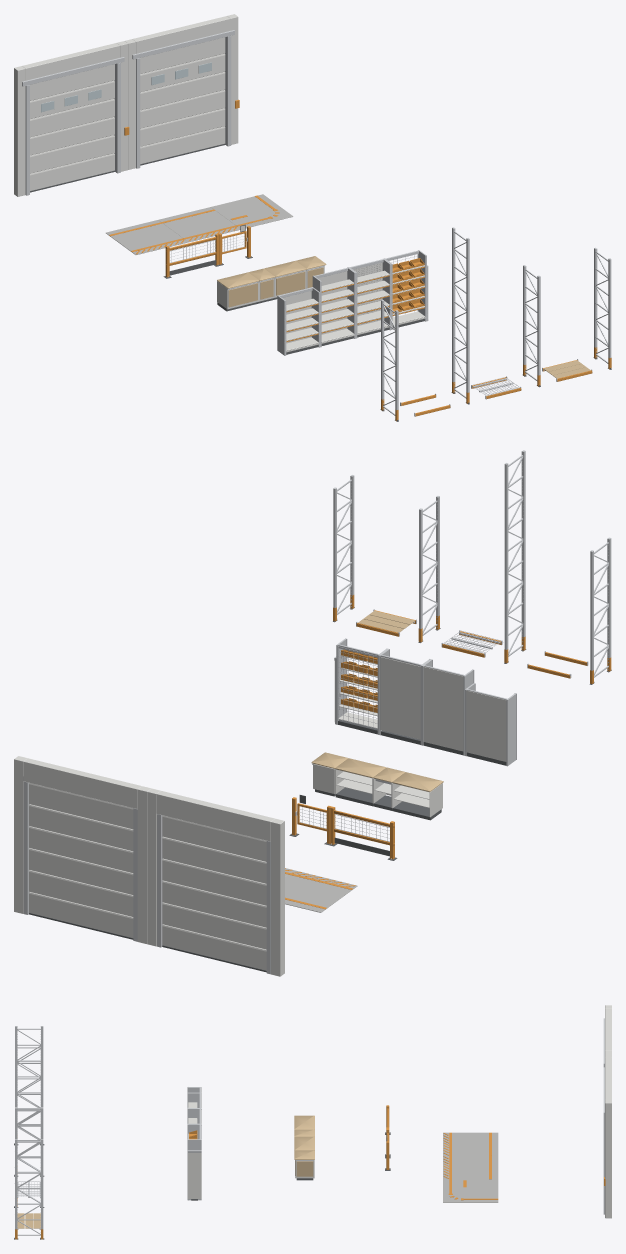
The model's file is connector-cases.glb.
3 views of the same model, one above another, from view 1: azimuth 30°, elevation 25°; view 2: azimuth 150°, elevation 25°; view 3: azimuth 270°, elevation 25° (orthographic). The views are drawn at different scales.
Visible parts, largest first — view 1: 022-loading-bay-door-module/bay-door/carcass, 021-loading-bay-door-module/bay-door/carcass, 021-loading-bay-door-module/0, 022-loading-bay-door-module/0, 008-shop-bay-2400/2, 022-loading-bay-door-module/1, 009-shop-bay-pegboard-back/2, 021-loading-bay-door-module/1, 002-pallet-rack-upright-frame-6m/0, 007-shop-bay-2000/2, 010-shop-bay-bin-fronts/3, 020-aisle-floor-marking-corner/0 (+13 smaller); view 2: 021-loading-bay-door-module/bay-door/carcass, 022-loading-bay-door-module/bay-door/carcass, 021-loading-bay-door-module/0, 022-loading-bay-door-module/0, 008-shop-bay-2400/2, 009-shop-bay-pegboard-back/2, 002-pallet-rack-upright-frame-6m/0, 007-shop-bay-2000/2, 010-shop-bay-bin-fronts/0, 018-aisle-floor-marking-tile/0, 006-pallet-rack-upright-frame-4m/0, 000-pallet-rack-upright-frame-4m/0 (+10 smaller); view 3: 002-pallet-rack-upright-frame-6m/0, 020-aisle-floor-marking-corner/0, 018-aisle-floor-marking-tile/0, 019-aisle-floor-marking-tile/0, 022-loading-bay-door-module/0, 006-pallet-rack-upright-frame-4m/0, 011-shop-bay-end-upright/1, 004-pallet-rack-upright-frame-4m/0, 015-trade-counter-corner/2, 000-pallet-rack-upright-frame-4m/0, 005-pallet-rack-beam-level-timber/2, 021-loading-bay-door-module/0.
Part boxes in pixels (<box>): 022-loading-bay-door-module/bay-door/carcass: <box>140,37,225,163</box>; 021-loading-bay-door-module/bay-door/carcass: <box>30,64,114,190</box>; 021-loading-bay-door-module/0: <box>14,41,127,196</box>; 022-loading-bay-door-module/0: <box>125,14,238,169</box>; 008-shop-bay-2400/2: <box>318,271,354,343</box>; 022-loading-bay-door-module/1: <box>132,30,234,168</box>; 009-shop-bay-pegboard-back/2: <box>353,262,389,334</box>; 021-loading-bay-door-module/1: <box>22,57,124,195</box>; 002-pallet-rack-upright-frame-6m/0: <box>452,227,469,398</box>; 007-shop-bay-2000/2: <box>282,291,318,352</box>; 010-shop-bay-bin-fronts/3: <box>392,258,424,315</box>; 020-aisle-floor-marking-corner/0: <box>211,194,293,228</box>; 021-loading-bay-door-module/bay-door/carcass: <box>162,815,266,970</box>; 022-loading-bay-door-module/bay-door/carcass: <box>29,783,133,937</box>; 021-loading-bay-door-module/0: <box>147,788,284,976</box>; 022-loading-bay-door-module/0: <box>14,756,151,943</box>; 008-shop-bay-2400/2: <box>423,666,463,751</box>; 009-shop-bay-pegboard-back/2: <box>380,657,420,739</box>; 002-pallet-rack-upright-frame-6m/0: <box>504,450,525,656</box>; 007-shop-bay-2000/2: <box>466,690,506,761</box>; 010-shop-bay-bin-fronts/0: <box>336,638,387,734</box>; 018-aisle-floor-marking-tile/0: <box>285,870,357,912</box>; 006-pallet-rack-upright-frame-4m/0: <box>333,475,354,614</box>; 000-pallet-rack-upright-frame-4m/0: <box>590,537,611,677</box>; 002-pallet-rack-upright-frame-6m/0: <box>15,1026,43,1172</box>; 020-aisle-floor-marking-corner/0: <box>443,1179,498,1202</box>; 018-aisle-floor-marking-tile/0: <box>443,1132,498,1155</box>; 019-aisle-floor-marking-tile/0: <box>443,1156,498,1179</box>; 022-loading-bay-door-module/0: <box>605,1054,611,1218</box>; 006-pallet-rack-upright-frame-4m/0: <box>15,1139,43,1239</box>; 011-shop-bay-end-upright/1: <box>187,1151,201,1198</box>; 004-pallet-rack-upright-frame-4m/0: <box>15,1107,43,1203</box>; 015-trade-counter-corner/2: <box>294,1150,314,1176</box>; 000-pallet-rack-upright-frame-4m/0: <box>17,1047,40,1141</box>; 005-pallet-rack-beam-level-timber/2: <box>17,1213,40,1228</box>; 021-loading-bay-door-module/0: <box>605,1005,611,1054</box>.
Bounding box in the file's own units: 10.24 × 6 × 21.67.
